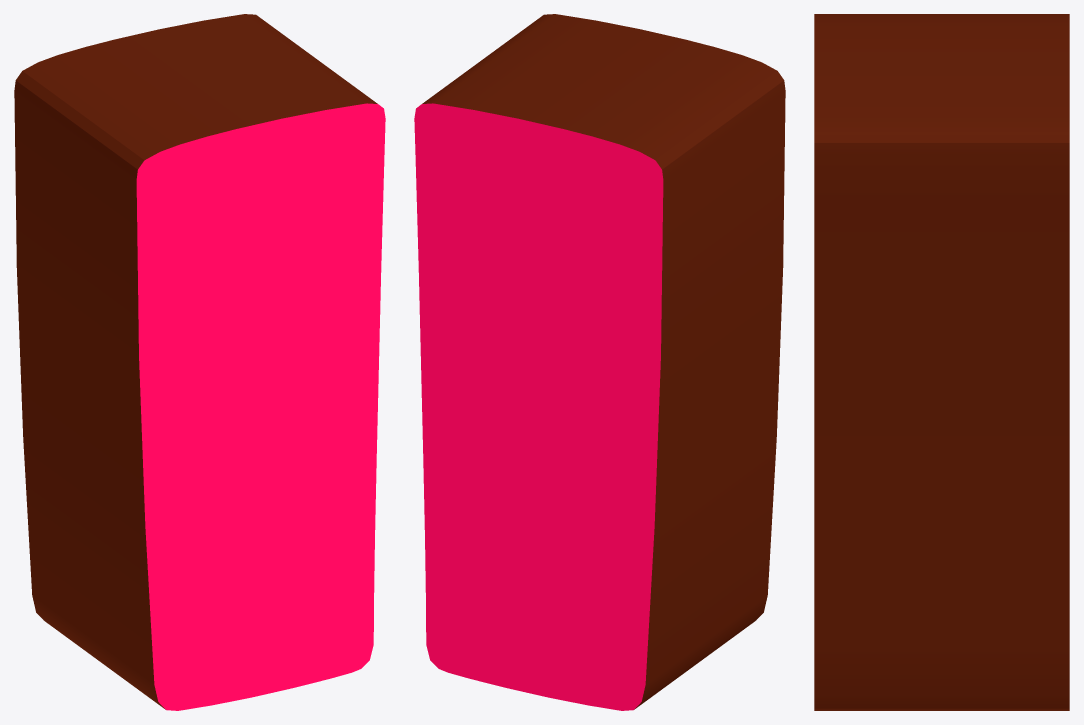
3 views of the same model, side by side, from view 1: azimuth 30°, elevation 25°; view 2: azimuth 150°, elevation 25°; view 3: azimuth 270°, elevation 25° (orthographic). The views are drawn at different scales.
Visible parts, largest first — view 1: i; view 2: i; view 3: i.
Part boxes in pixels (x1,y1,x2,y2): i: (14, 14, 385, 710); i: (414, 14, 785, 710); i: (814, 14, 1069, 710).
Bounding box in the file's own units: 0.2118 × 0.4655 × 0.18.
